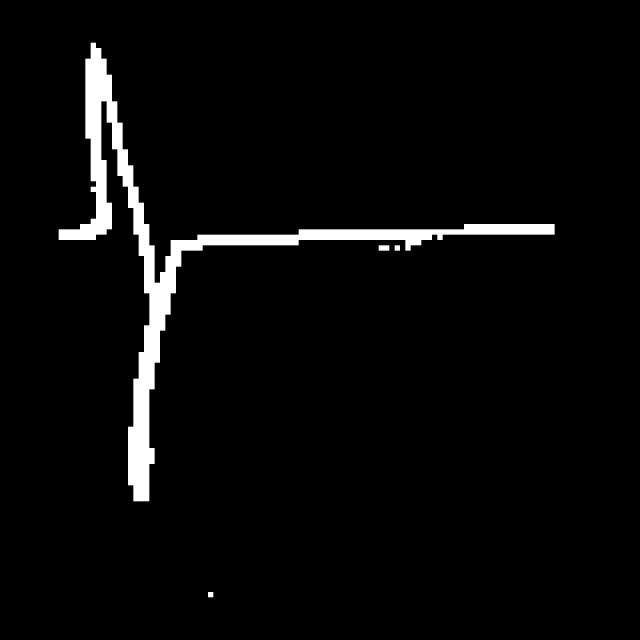resistor: (73, 26, 235, 516)
